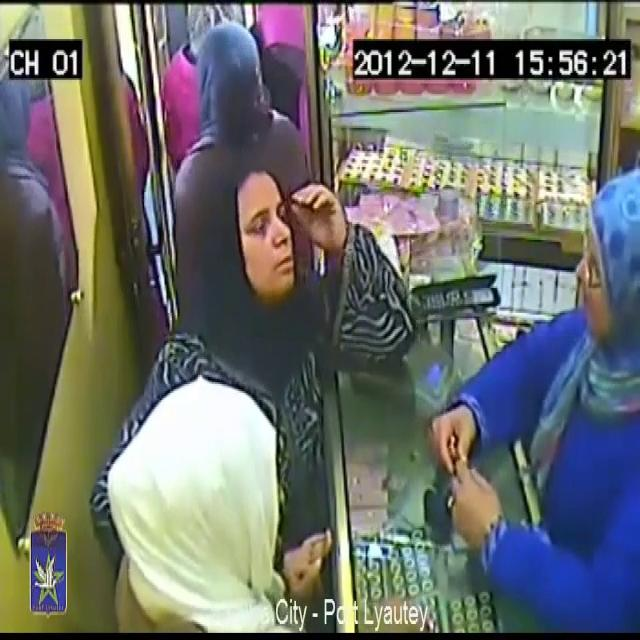Product: (438, 431, 464, 487)
normal: (105, 364, 323, 640), (241, 168, 346, 346), (248, 1, 328, 193), (175, 48, 265, 213), (172, 3, 243, 108)
shoplifting: (382, 144, 640, 627)
